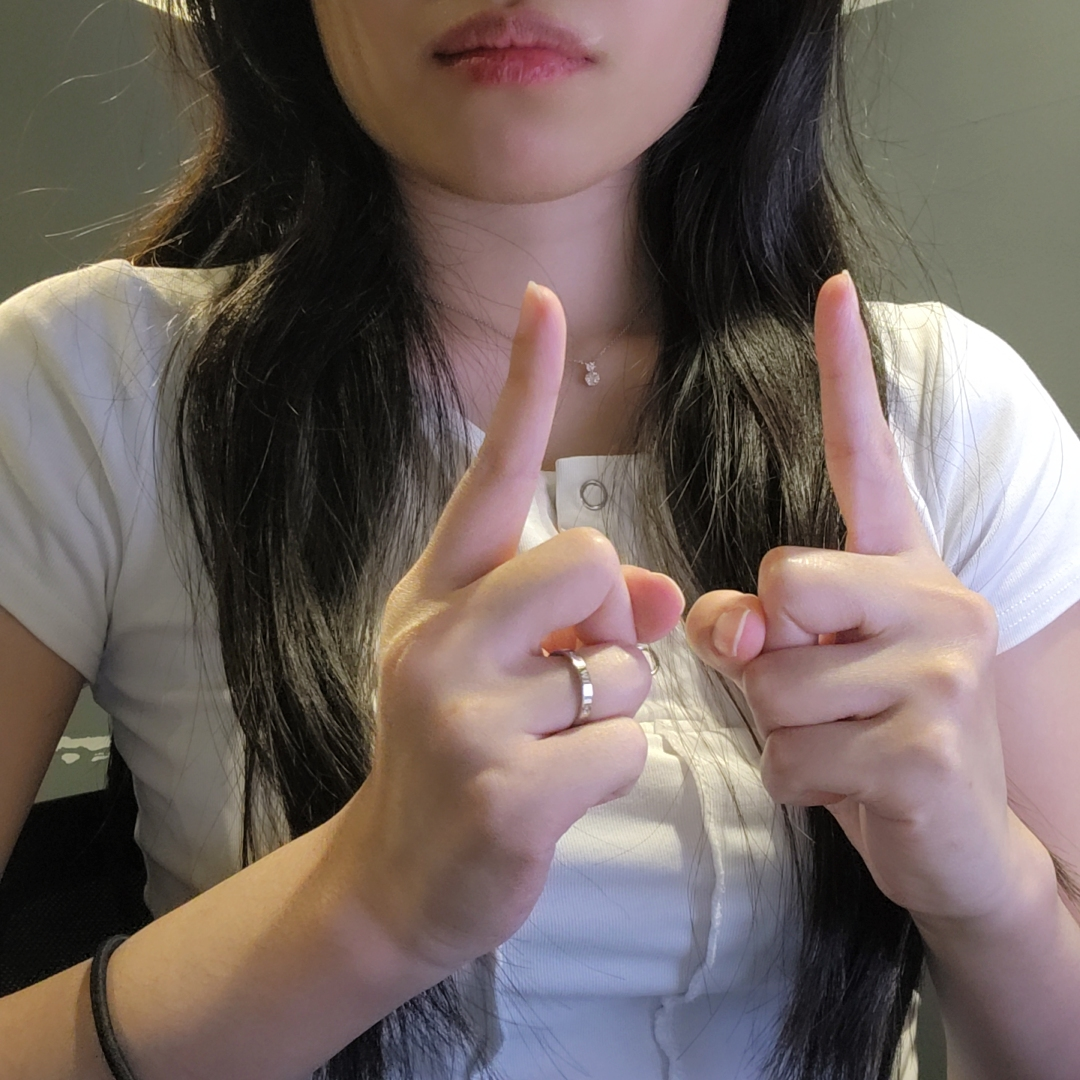meet: (361, 271, 1010, 954)
